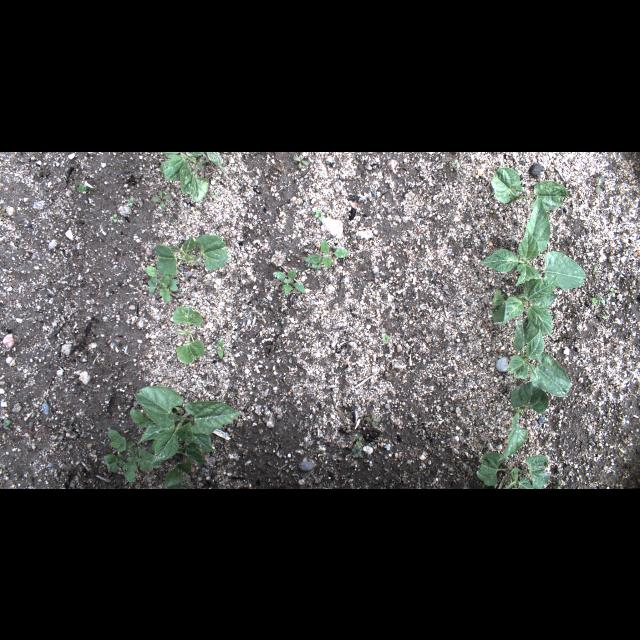crop: (101, 386, 243, 488), (470, 198, 586, 290), (504, 317, 574, 403), (488, 278, 560, 338), (502, 380, 554, 460), (157, 153, 226, 205), (150, 231, 230, 275), (490, 166, 570, 210), (474, 450, 552, 486), (170, 303, 206, 363), (144, 264, 182, 304)
weed: (302, 235, 353, 269), (272, 268, 308, 298), (207, 338, 237, 362), (150, 187, 177, 213), (287, 153, 317, 173), (348, 432, 368, 462), (383, 356, 405, 380), (67, 175, 91, 193), (590, 174, 608, 196), (440, 155, 468, 169), (22, 165, 52, 178), (373, 330, 392, 348), (364, 412, 384, 428), (208, 184, 226, 200), (590, 291, 606, 309), (310, 206, 330, 220), (0, 200, 14, 220), (125, 191, 138, 211), (110, 208, 126, 224), (607, 282, 619, 302), (589, 258, 603, 274), (600, 310, 612, 322), (28, 423, 40, 433), (0, 418, 10, 429), (278, 315, 286, 327)
